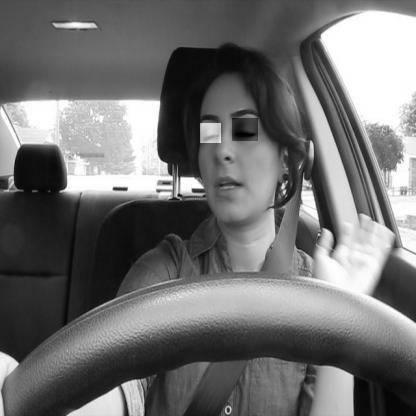seatbelt: (184, 48, 314, 416)
